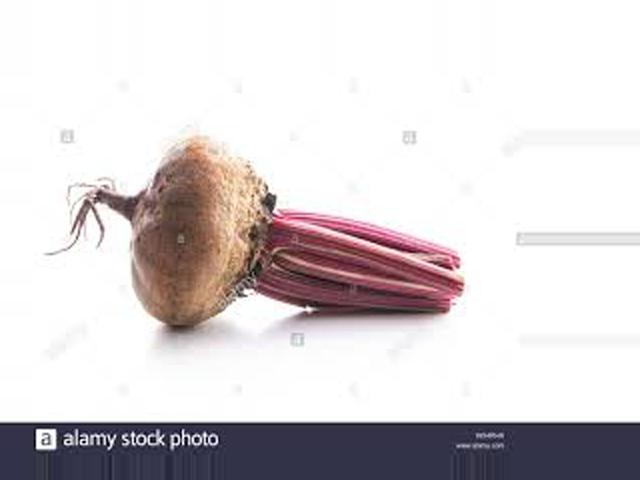beet: (44, 137, 464, 327)
